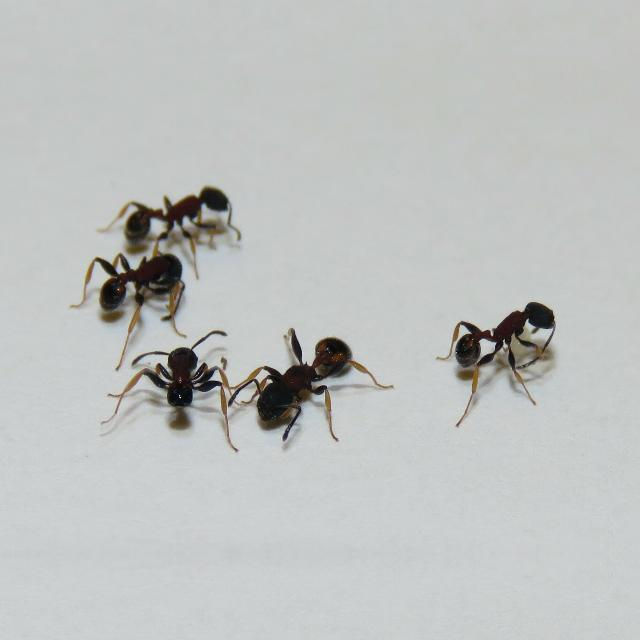Temnothorax: (237, 328, 367, 439), (448, 280, 574, 392), (109, 172, 243, 248), (80, 240, 194, 320), (144, 331, 228, 411)
